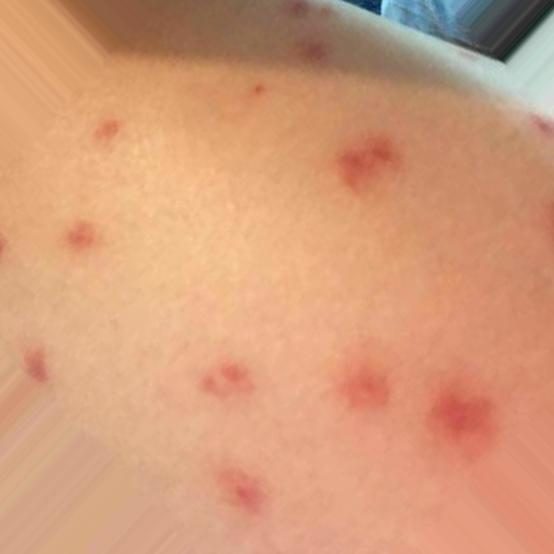Fleas: (329, 126, 406, 194), (203, 456, 281, 523), (430, 385, 492, 444), (198, 360, 254, 401), (338, 364, 388, 407), (16, 342, 53, 388), (443, 43, 490, 75), (91, 116, 126, 152), (64, 216, 97, 253), (292, 38, 330, 70), (282, 0, 334, 19), (531, 105, 553, 138), (241, 79, 270, 102)
